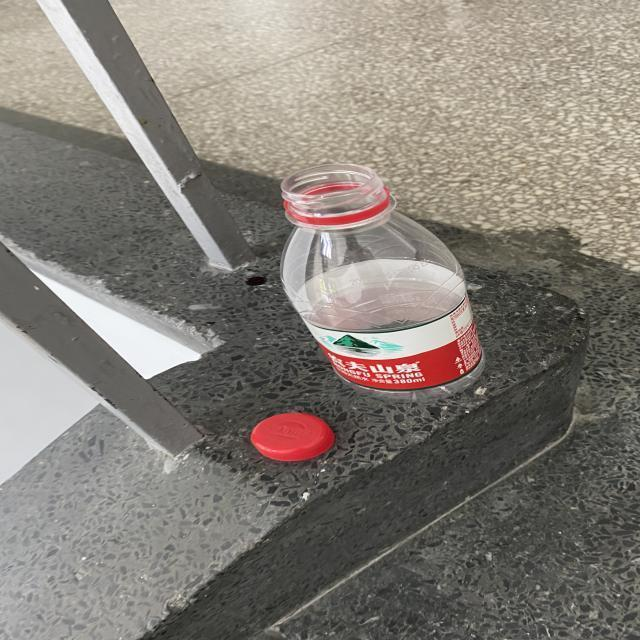chai: (282, 164, 484, 399)
